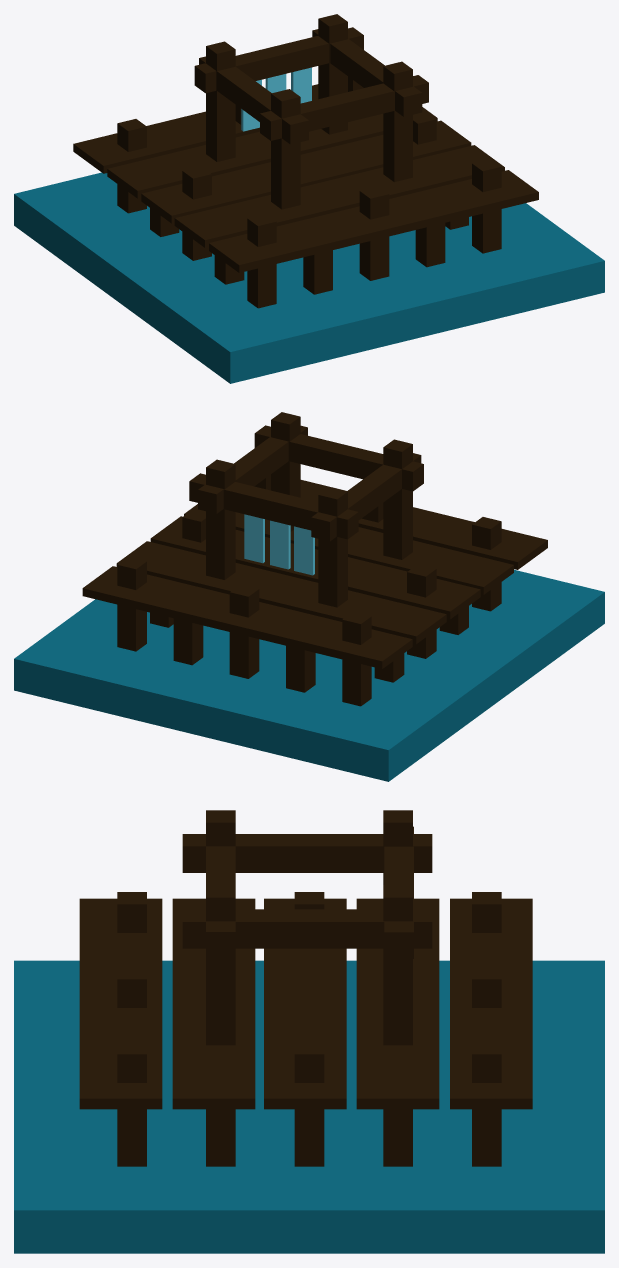
The model's file is Fishery1.obj.
The picture shows the model from 3 angles, top to bottom: view 1: azimuth 30°, elevation 25°; view 2: azimuth 150°, elevation 25°; view 3: azimuth 270°, elevation 25°; orthographic projection. The views are drawn at different scales.
Visible parts, largest first — view 1: Tilebase117, Box871, Box853, Box873, Box886, Box887, Box877, Box878, Box854, Box875, Box876, Box879 (+12 smaller); view 2: Tilebase117, Box887, Box886, Box873, Box853, Box871, Box878, Box877, Box874, Box876, Box875, Box879 (+15 smaller); view 3: Tilebase117, Box871, Box887, Box873, Box853, Box886, Box880, Box879, Box874, Box854, Box856, Box863 (+11 smaller).
Boxes of the visible parts, box(x1,y1,x2,y2) form: Tilebase117: box(14, 172, 604, 383); Box871: box(209, 170, 538, 272); Box853: box(174, 145, 504, 247); Box873: box(141, 120, 471, 223); Box886: box(107, 107, 437, 198); Box887: box(73, 84, 318, 173); Box877: box(260, 75, 428, 140); Box878: box(194, 27, 363, 93); Box854: box(383, 61, 412, 181); Box875: box(271, 89, 300, 209); Box876: box(206, 41, 235, 161); Box879: box(199, 56, 308, 144); Tilebase117: box(14, 569, 604, 781); Box887: box(82, 566, 412, 668); Box886: box(116, 541, 446, 644); Box873: box(150, 516, 480, 619); Box853: box(184, 504, 513, 594); Box871: box(300, 480, 547, 569); Box878: box(189, 473, 358, 539); Box877: box(254, 425, 423, 491); Box874: box(206, 459, 235, 579); Box876: box(318, 487, 347, 607); Box875: box(383, 439, 412, 559); Box879: box(311, 453, 421, 541); Tilebase117: box(14, 960, 604, 1253); Box871: box(79, 898, 162, 1109); Box887: box(450, 898, 532, 1109); Box873: box(264, 898, 346, 1109); Box853: box(172, 898, 255, 1109); Box886: box(356, 898, 439, 1109); Box880: box(182, 909, 432, 948); Box879: box(182, 834, 432, 872); Box874: box(383, 885, 412, 1045); Box854: box(206, 885, 235, 1045); Box856: box(294, 1041, 324, 1166); Box863: box(117, 1041, 146, 1166).
Bounding box in the file's own units: 10 × 5.14 × 10.
